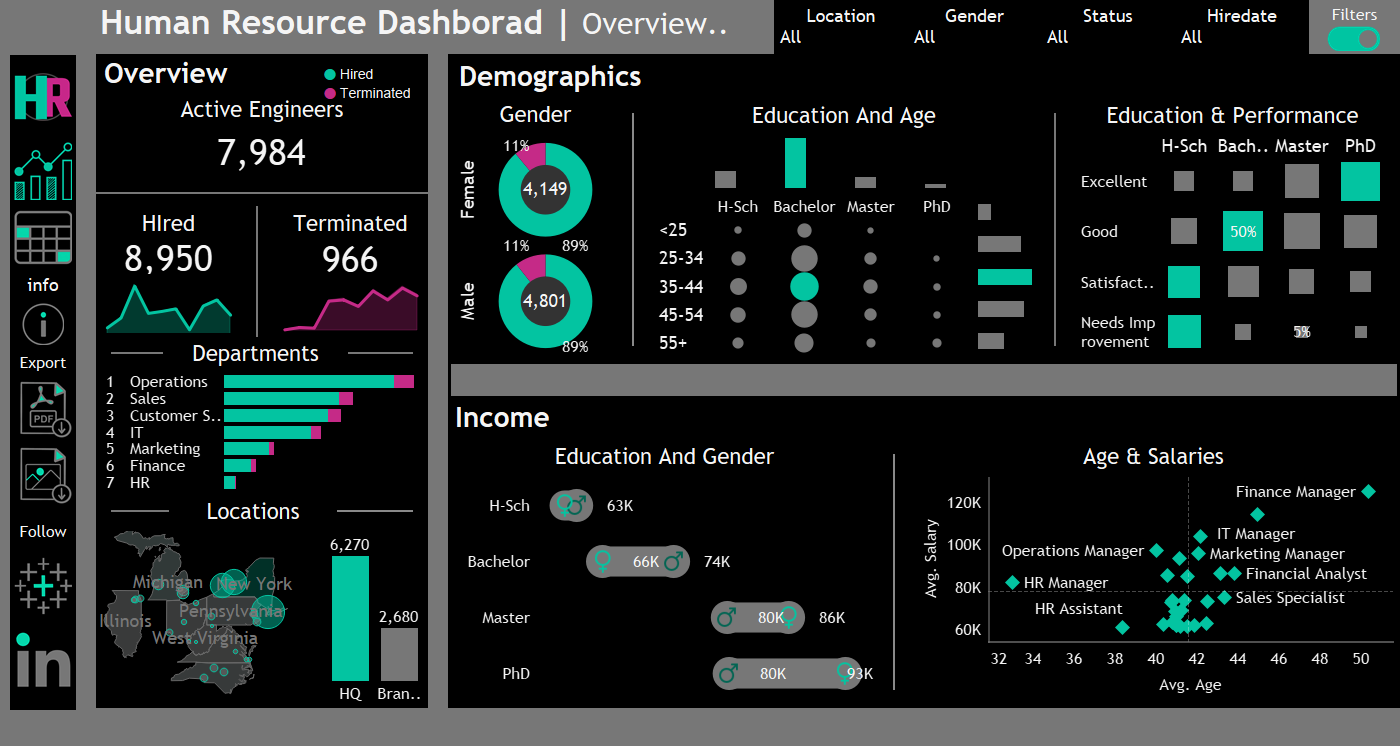

The page's visual inventory and layout, read from the dashboard file:
{"tool":"tableau","page":{"name":"Overview","canvas":[1400,746],"ordinal":1},"visuals":[{"type":"text","box":[96,0,1304,54]},{"type":"filter","title":"Location","param":"[federated.0sjlpc11pzh4zf17m3eec0848f0n].[none:Calculation_1855764573414273029:n","box":[774,0,133.7,56]},{"type":"filter","title":"Gender vs Saralies","param":"[federated.0sjlpc11pzh4zf17m3eec0848f0n].[none:Gender:nk]","box":[907.7,0,133.7,56]},{"type":"filter","title":"Departments","param":"[federated.0sjlpc11pzh4zf17m3eec0848f0n].[none:Calculation_1246934199806492672:n","box":[1041.5,0,133.7,56]},{"type":"filter","title":"Hired By year","param":"[federated.0sjlpc11pzh4zf17m3eec0848f0n].[yr:Hiredate:ok]","box":[1175.2,0,133.8,56]},{"type":"dashboard-object","box":[1314,26,79,25]},{"type":"text","box":[345,50,103,57]},{"type":"text","box":[96,54,332,39]},{"type":"image","param":"Image/Logo.png","box":[10,55,66,82.7]},{"type":"text","box":[451,57,946,38]},{"type":"text","box":[96,93,332,32]},{"type":"text","box":[454,98,163,32]},{"type":"blank","box":[617,98,32,263]},{"type":"text","box":[649,98,390,34]},{"type":"blank","box":[1039,98,32,263]},{"type":"text","box":[1071,98,323,34]},{"type":"worksheet","title":"Ban Active ","mark":"Automatic","box":[96,125,332,55]},{"type":"worksheet","title":"Gender","mark":"Pie","rows":["Gender"],"cols":["Calculation_1855764573444558855","Calculation_1855764573444558855"],"box":[454,130,163,231]},{"type":"blank","box":[649,132,37,60]},{"type":"worksheet","title":"Education Levels","mark":"Bar","rows":["Calculation1"],"cols":["Education Level"],"box":[686,132,288,60]},{"type":"blank","box":[974,132,65,60]},{"type":"worksheet","title":"Education Vs Performance","mark":"Square","rows":["Performance Rating"],"cols":["Education Level"],"box":[1071,132,323,229]},{"type":"dashboard-object","box":[10,137.7,66,66]},{"type":"blank","box":[96,180,332,26]},{"type":"text","box":[90,191,1310,309]},{"type":"worksheet","title":"Age vs Education","mark":"Circle","rows":["Calculation_1855764573450805258"],"cols":["Education Level"],"box":[649,192,325,169]},{"type":"worksheet","title":"Age Groups","mark":"Bar","rows":["Calculation_1855764573450805258"],"box":[974,192,65,169]},{"type":"dashboard-object","box":[10,203.7,66,66]},{"type":"text","box":[96,206,145,32]},{"type":"blank","box":[241,206,32,131]},{"type":"text","box":[273,206,155,32]},{"type":"worksheet","title":"Ban Hired","mark":"Automatic","box":[96,238,145,38]},{"type":"worksheet","title":"Ban Terminated","mark":"Automatic","box":[273,238,155,40]},{"type":"text","box":[10,269.7,66,29]},{"type":"worksheet","title":"Hired By year","mark":"Line","rows":["Calculation_1855764573402198016","Calculation_1855764573402198016"],"cols":["Hiredate"],"box":[96,276,145,61]},{"type":"worksheet","title":"Terminated By year","mark":"Line","rows":["Calculation_1855764573403332610","Calculation_1855764573403332610"],"cols":["Termdate"],"box":[273,278,155,59]},{"type":"dashboard-object","box":[10,298.7,66,50]},{"type":"blank","box":[96,337,82,32]},{"type":"text","box":[178,337,155,32]},{"type":"blank","box":[333,337,95,32]},{"type":"text","box":[10,348.7,66,27]},{"type":"blank","box":[451,364,946,32]},{"type":"worksheet","title":"Departments","mark":"Bar","rows":["Calculation_1855764573412712452","Department"],"cols":["Calculation_1855764573402198016"],"box":[96,369,332,126]},{"type":"dashboard-object","box":[10,375.7,66,66]},{"type":"text","box":[451,396,946,43]},{"type":"text","box":[451,439,427,34]},{"type":"blank","box":[878,439,32,266]},{"type":"text","box":[910,439,487,34]},{"type":"dashboard-object","box":[10,441.7,66,66]},{"type":"worksheet","title":"Gender vs Saralies","mark":"Square","rows":["Education Level"],"cols":["Salary","Salary"],"box":[451,473,427,232]},{"type":"worksheet","title":"Age vs Salary","mark":"Shape","rows":["Salary"],"cols":["Calculation_1855764573450403849"],"box":[910,473,487,232]},{"type":"blank","box":[96,495,88,32]},{"type":"text","box":[184,495,138,32]},{"type":"blank","box":[322,495,106,32]},{"type":"blank","box":[90,500,1310,203]},{"type":"text","box":[10,517.7,66,27]},{"type":"worksheet","title":"Map States","mark":"Multipolygon","box":[96,527,226,181]},{"type":"worksheet","title":"Location","mark":"Bar","rows":["Calculation_1855764573402198016"],"cols":["Calculation_1855764573414273029"],"box":[322,527,106,181]},{"type":"image","param":"Image/contact-public.png","box":[10,544.7,66,82.7]},{"type":"image","param":"Image/contact-linkedin.png","box":[10,627.3,66,82.7]}]}

Visuals, with their boxes in screenshot pixels (x1, y1, x2, y2), scaled from the page's 1400x746 canvas onto the 1400x746 screenshot:
text: detection(96, 0, 1399, 54)
"Location" filter: detection(774, 0, 908, 56)
"Gender vs Saralies" filter: detection(908, 0, 1041, 56)
"Departments" filter: detection(1042, 0, 1175, 56)
"Hired By year" filter: detection(1175, 0, 1309, 56)
dashboard-object: detection(1314, 26, 1393, 51)
text: detection(345, 50, 448, 107)
text: detection(96, 54, 428, 93)
image: detection(10, 55, 76, 138)
text: detection(451, 57, 1397, 95)
text: detection(96, 93, 428, 125)
text: detection(454, 98, 617, 130)
blank: detection(617, 98, 649, 361)
text: detection(649, 98, 1039, 132)
blank: detection(1039, 98, 1071, 361)
text: detection(1071, 98, 1394, 132)
"Ban Active " worksheet: detection(96, 125, 428, 180)
"Gender" worksheet (Pie marks): detection(454, 130, 617, 361)
blank: detection(649, 132, 686, 192)
"Education Levels" worksheet (Bar marks): detection(686, 132, 974, 192)
blank: detection(974, 132, 1039, 192)
"Education Vs Performance" worksheet (Square marks): detection(1071, 132, 1394, 361)
dashboard-object: detection(10, 138, 76, 204)
blank: detection(96, 180, 428, 206)
text: detection(90, 191, 1399, 500)
"Age vs Education" worksheet (Circle marks): detection(649, 192, 974, 361)
"Age Groups" worksheet (Bar marks): detection(974, 192, 1039, 361)
dashboard-object: detection(10, 204, 76, 270)
text: detection(96, 206, 241, 238)
blank: detection(241, 206, 273, 337)
text: detection(273, 206, 428, 238)
"Ban Hired" worksheet: detection(96, 238, 241, 276)
"Ban Terminated" worksheet: detection(273, 238, 428, 278)
text: detection(10, 270, 76, 299)
"Hired By year" worksheet (Line marks): detection(96, 276, 241, 337)
"Terminated By year" worksheet (Line marks): detection(273, 278, 428, 337)
dashboard-object: detection(10, 299, 76, 349)
blank: detection(96, 337, 178, 369)
text: detection(178, 337, 333, 369)
blank: detection(333, 337, 428, 369)
text: detection(10, 349, 76, 376)
blank: detection(451, 364, 1397, 396)
"Departments" worksheet (Bar marks): detection(96, 369, 428, 495)
dashboard-object: detection(10, 376, 76, 442)
text: detection(451, 396, 1397, 439)
text: detection(451, 439, 878, 473)
blank: detection(878, 439, 910, 705)
text: detection(910, 439, 1397, 473)
dashboard-object: detection(10, 442, 76, 508)
"Gender vs Saralies" worksheet (Square marks): detection(451, 473, 878, 705)
"Age vs Salary" worksheet (Shape marks): detection(910, 473, 1397, 705)
blank: detection(96, 495, 184, 527)
text: detection(184, 495, 322, 527)
blank: detection(322, 495, 428, 527)
blank: detection(90, 500, 1399, 703)
text: detection(10, 518, 76, 545)
"Map States" worksheet (Multipolygon marks): detection(96, 527, 322, 708)
"Location" worksheet (Bar marks): detection(322, 527, 428, 708)
image: detection(10, 545, 76, 627)
image: detection(10, 627, 76, 710)
